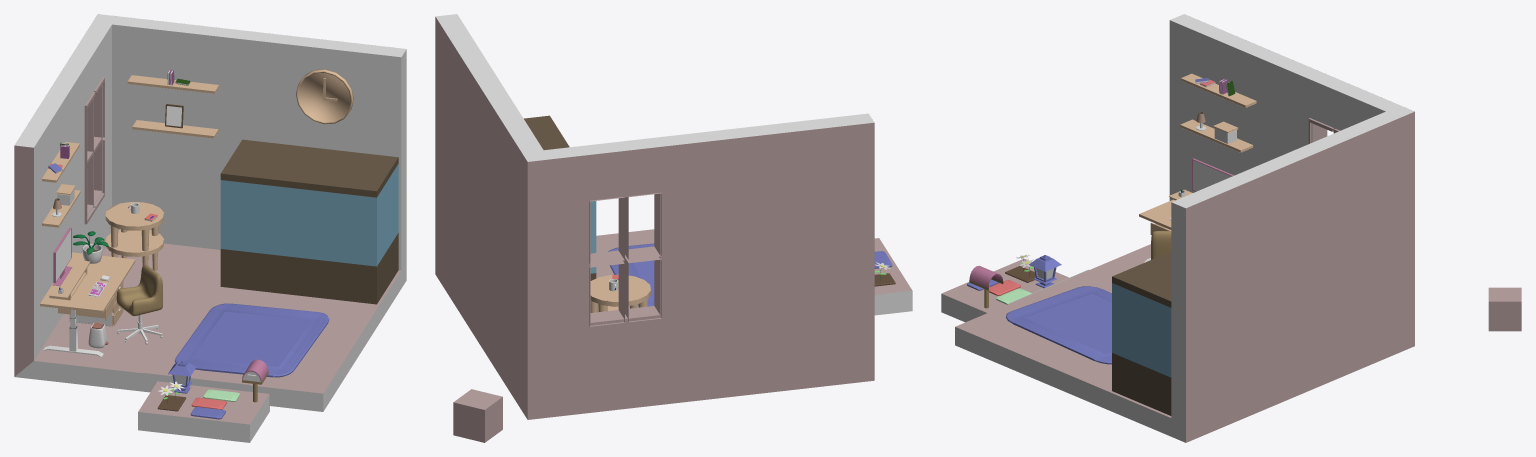
File: FinalR.glb
The picture shows the model from 3 angles, left to right: view 1: azimuth 30°, elevation 25°; view 2: azimuth 150°, elevation 25°; view 3: azimuth 270°, elevation 25°; orthographic projection. The views are drawn at different scales.
Parts seen in each view (by area): view 1: Body, Aquaruim, Floor Items, Desks, Mini Floor, Shelves, Clock, Table Stuff, Chair, Computer, Mailbox, Lamp; view 2: Body, Cube, Mini Floor, Desks, Aquaruim, Floor Items; view 3: Body, Aquaruim, Floor Items, Mini Floor, Shelves, Cube, Computer, Desks, Lamp, Mailbox.
Part boxes in pixels (x1,y1,x2,y2): Body: (14,14,406,411); Aquaruim: (220,139,398,304); Floor Items: (69,281,329,377); Desks: (40,202,163,356); Mini Floor: (138,381,269,442); Shelves: (42,69,218,227); Clock: (296,69,353,124); Table Stuff: (46,203,157,300); Chair: (116,264,162,316); Computer: (52,227,72,286); Mailbox: (242,359,268,402); Lamp: (168,361,196,393); Body: (435,14,874,419); Cube: (453,389,502,442); Mini Floor: (874,238,912,315); Desks: (590,274,650,312); Aquaruim: (524,115,596,280); Floor Items: (608,243,654,306); Body: (955,14,1414,442); Aquaruim: (1112,251,1171,415); Floor Items: (1006,286,1111,364); Mini Floor: (941,258,1068,322); Shelves: (1180,73,1256,152); Cube: (1488,287,1521,331); Computer: (1192,158,1233,191); Desks: (1139,199,1175,262); Lamp: (1029,255,1061,288); Mailbox: (969,265,1003,308).
Size of what is drawn, in the model's own units: 27.84 by 16.1 by 35.13.
